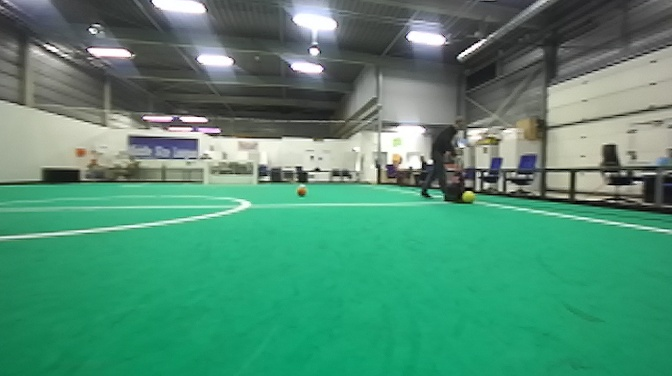ball: (295, 182, 309, 198), (463, 189, 475, 204)
goal: (204, 159, 260, 187)
goalpost: (252, 160, 259, 186), (203, 162, 209, 186)
human: (419, 115, 470, 202)
robot: (443, 155, 467, 204)
